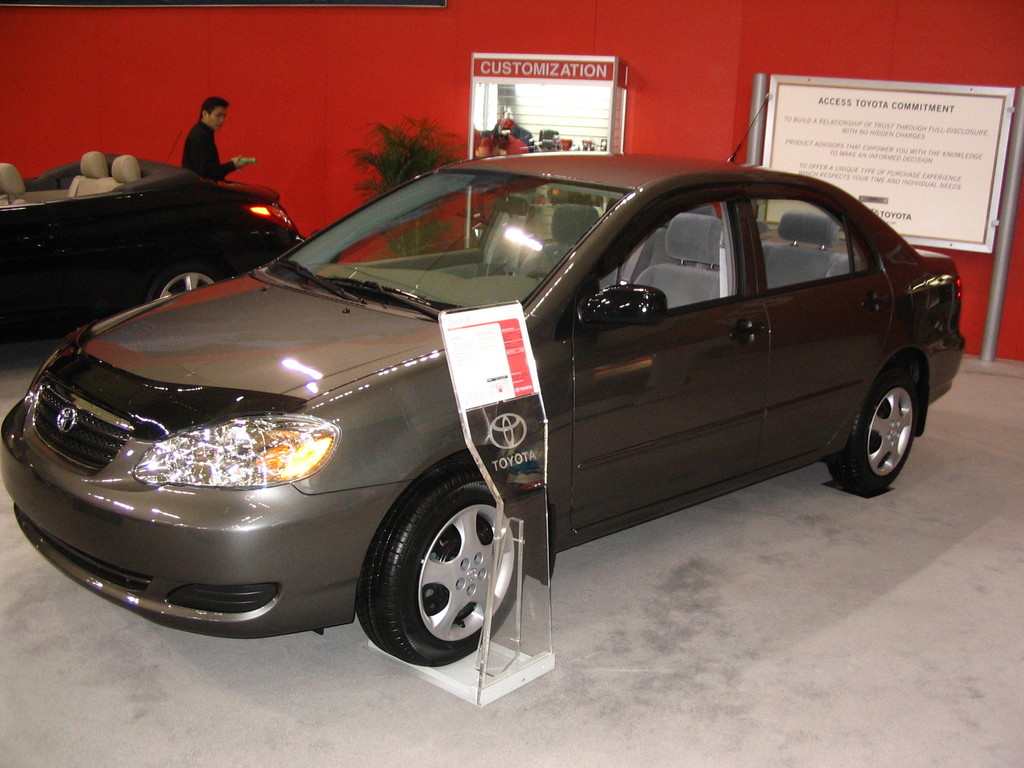Car: (0, 94, 965, 666), (0, 132, 305, 316)
